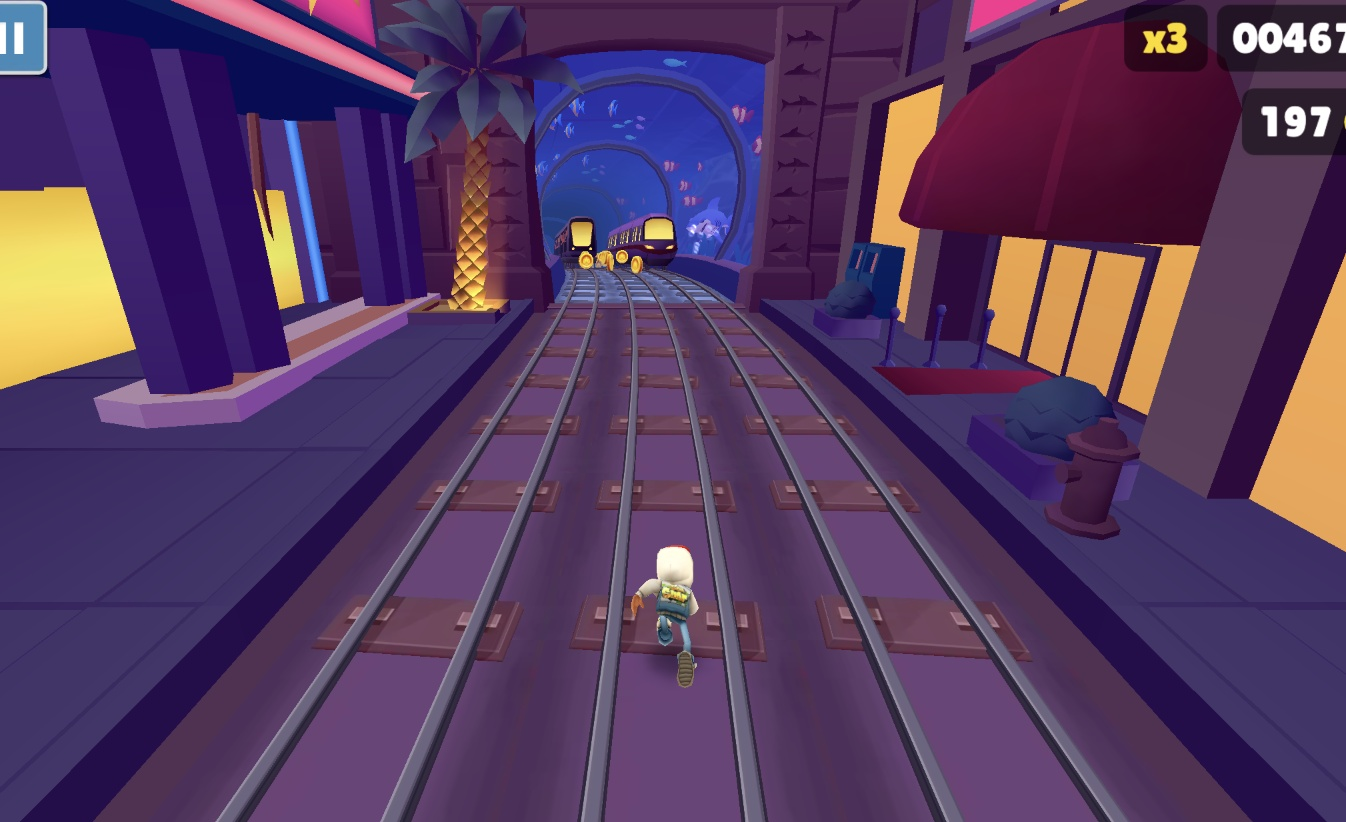train: (608, 213, 679, 271), (553, 216, 598, 269)
